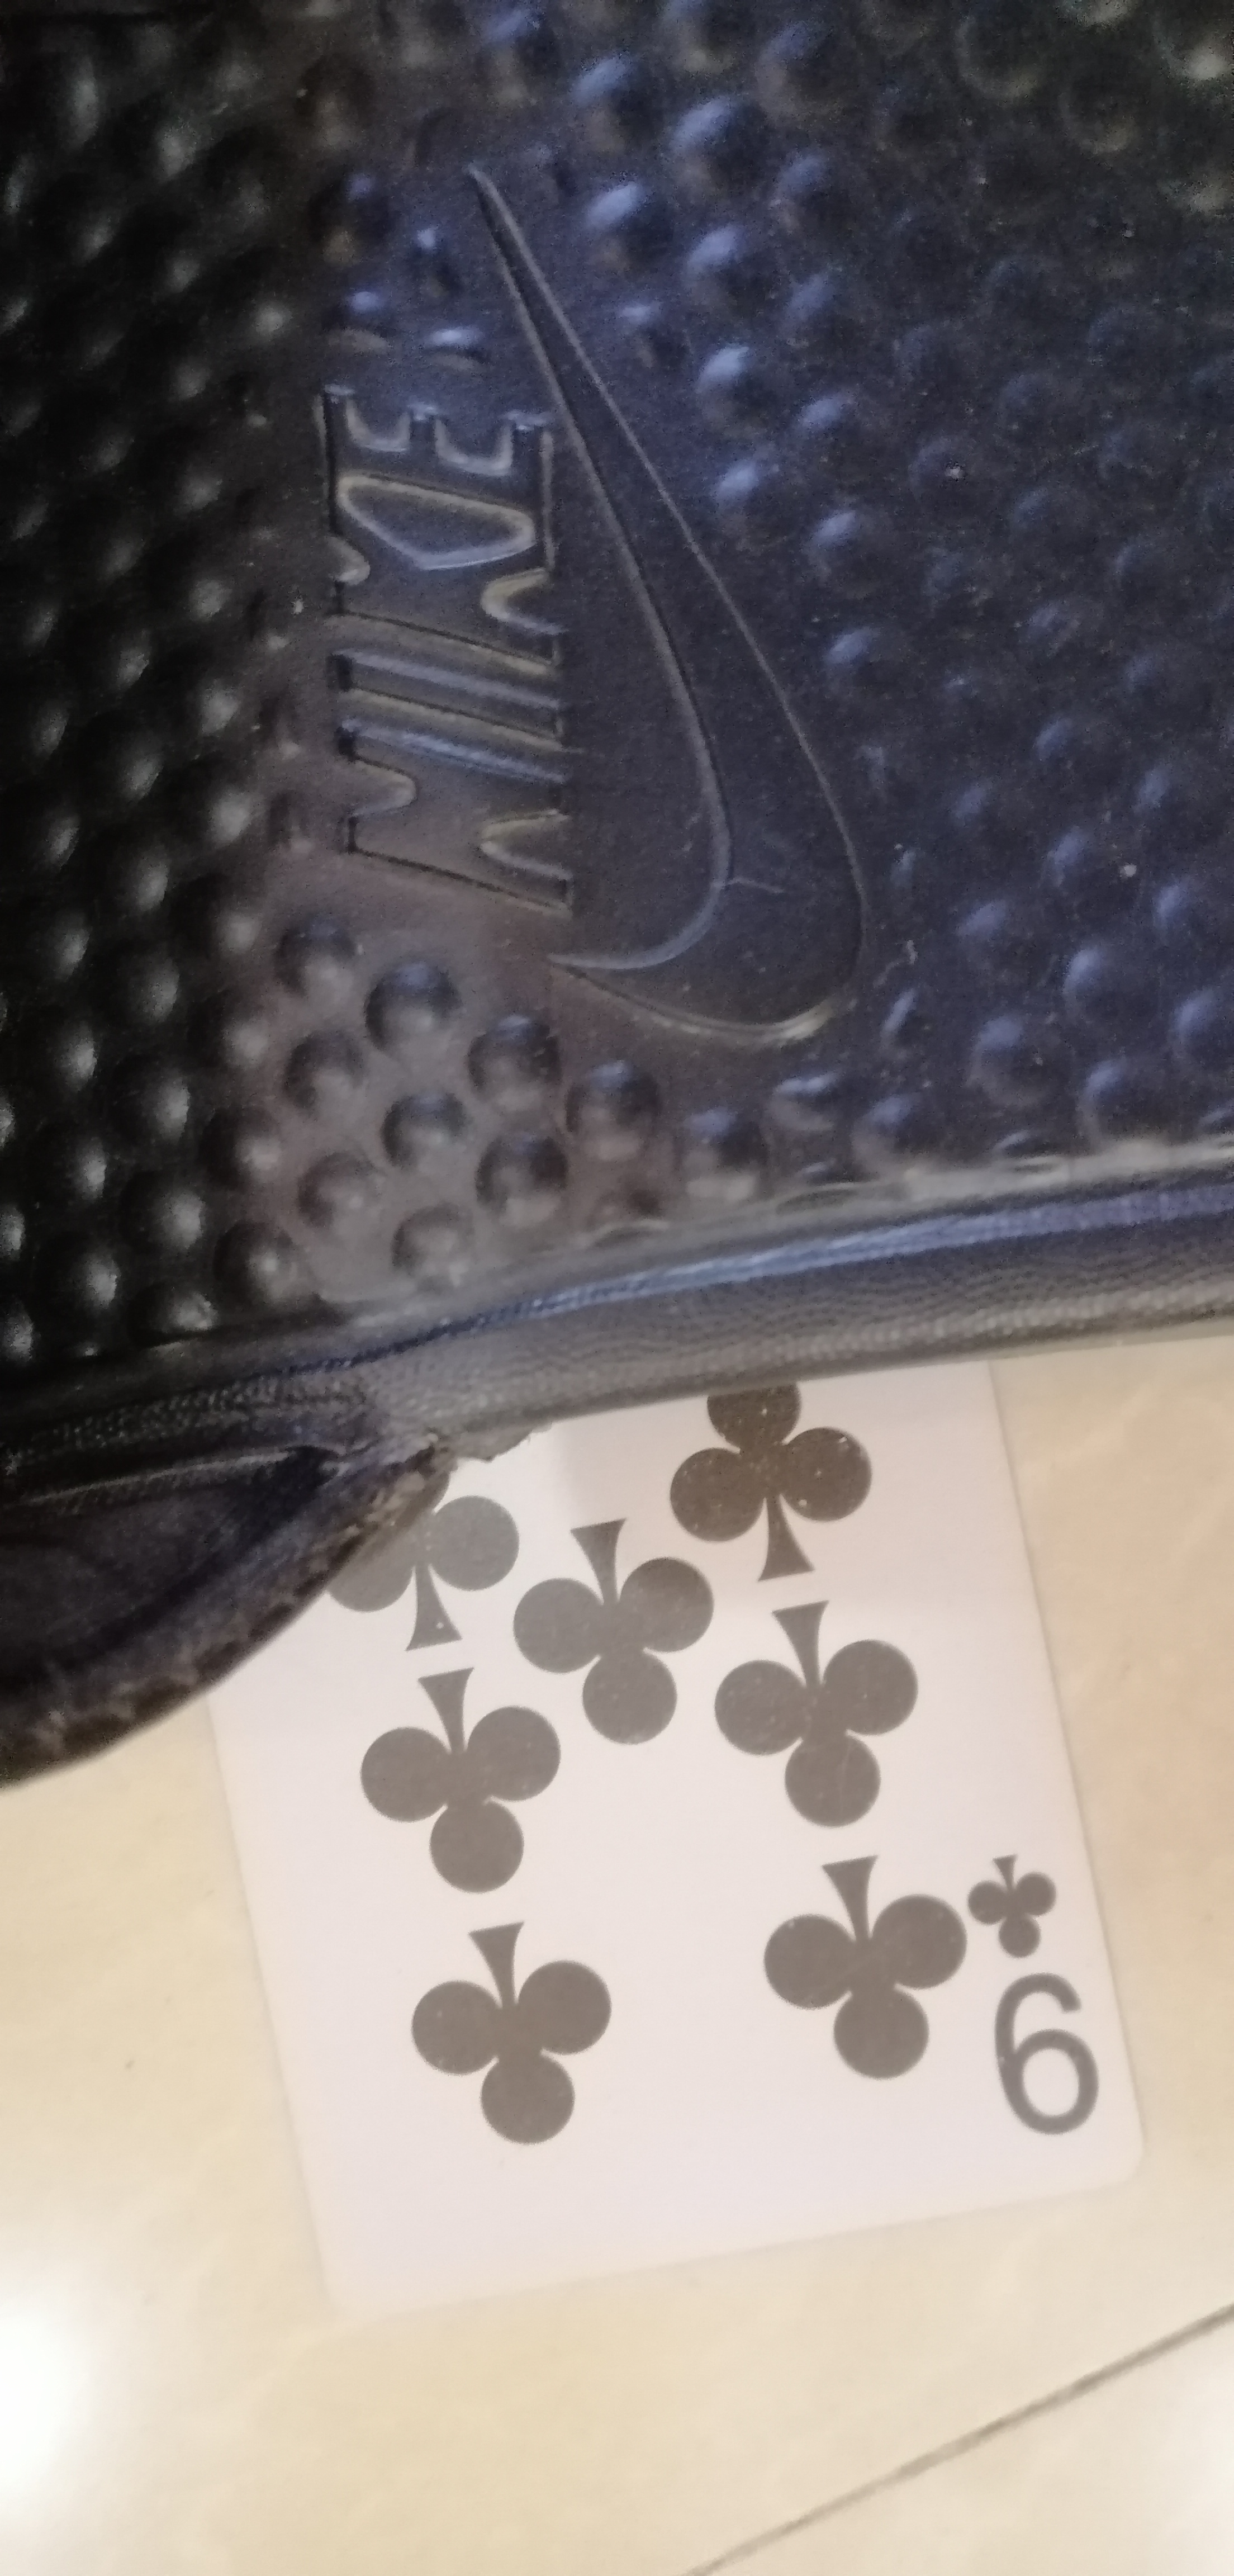nine: (150, 1350, 1165, 2252)
